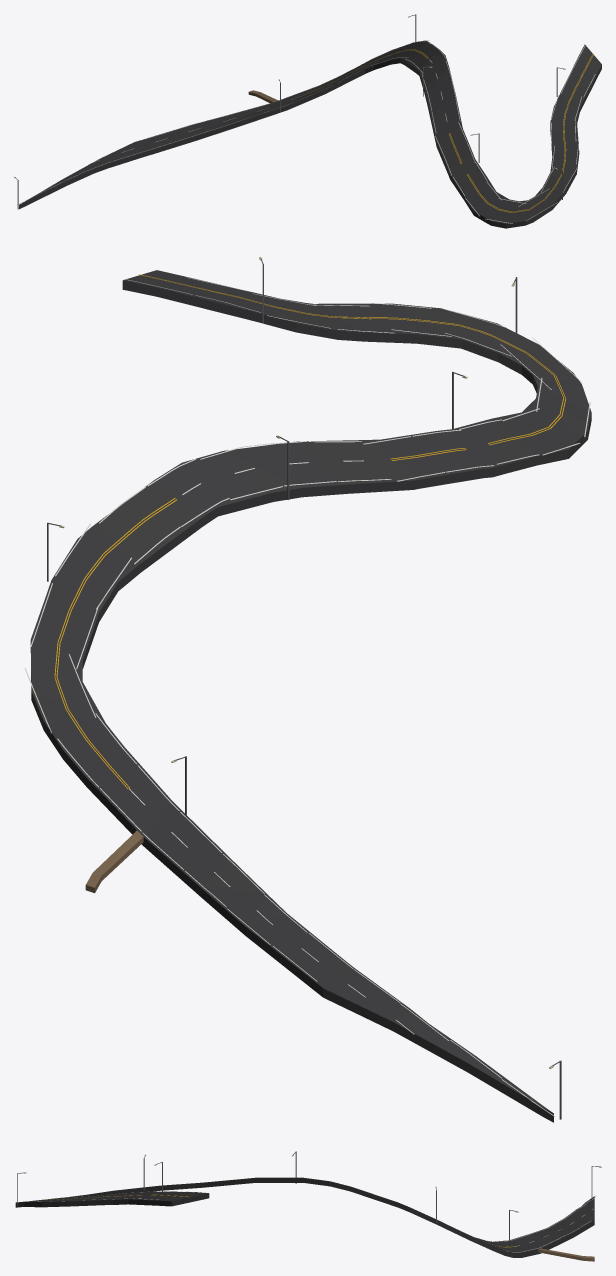
3 renders of one model, top to bottom at view 1: azimuth 30°, elevation 25°; view 2: azimuth 150°, elevation 25°; view 3: azimuth 270°, elevation 25°, orthographic. The views are drawn at different scales.
Bounding box in the file's own units: 106 × 51.79 × 124.
